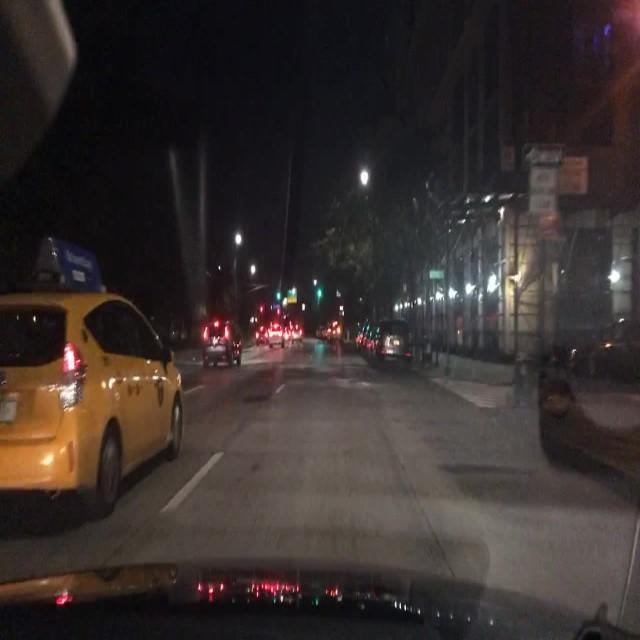normal: (0, 294, 182, 523), (203, 335, 241, 368)
